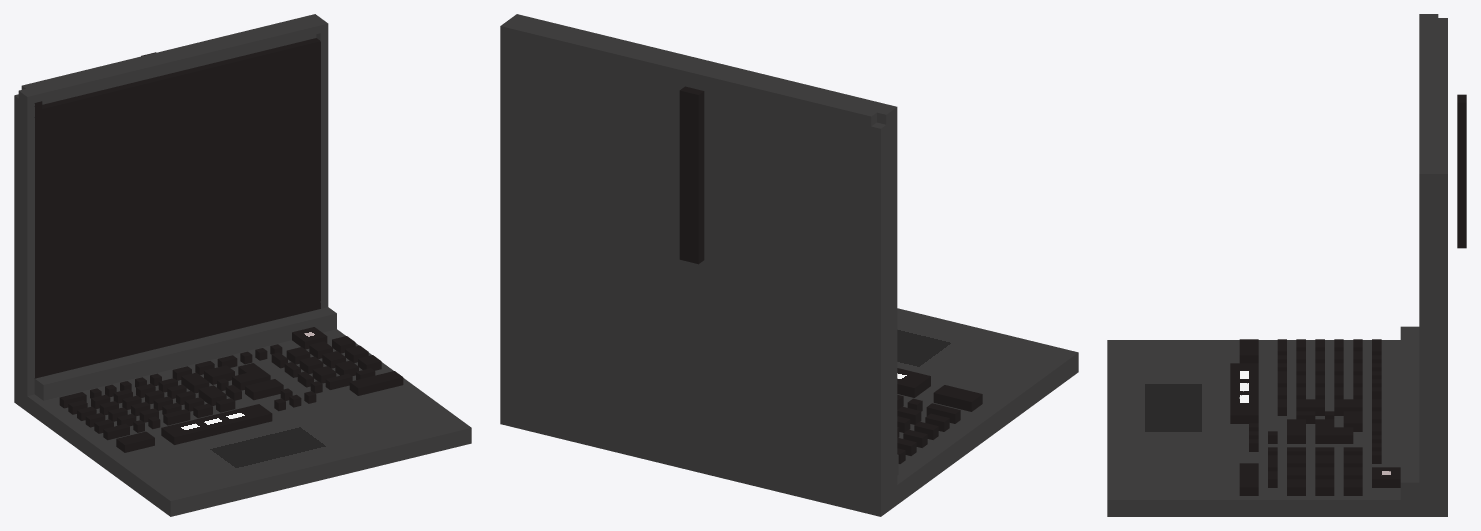
The model's file is 笔记本电脑-1.gltf.
3 views of the same model, side by side, from view 1: azimuth 30°, elevation 25°; view 2: azimuth 150°, elevation 25°; view 3: azimuth 270°, elevation 25° (orthographic). The views are drawn at different scales.
Parts seen in each view (by area): view 1: Object; view 2: Object; view 3: Object.
Part boxes in pixels (<box>): Object: <box>14,14,471,516</box>; Object: <box>500,14,1078,516</box>; Object: <box>1107,14,1466,516</box>.
Size of the model in its own units: 40 by 40 by 38.
1 material, 1 textured.
